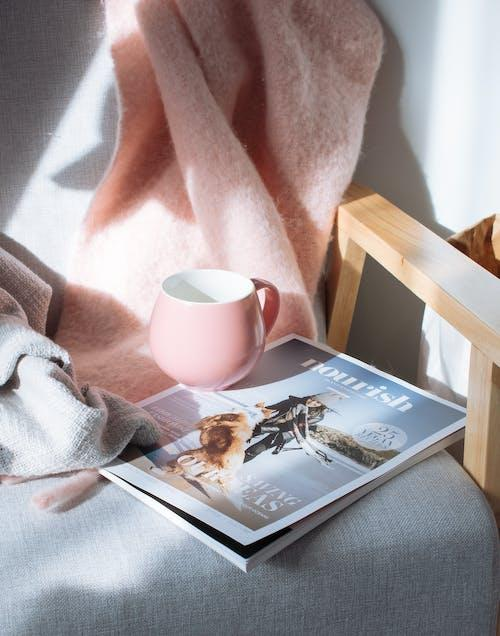Mug: (126, 223, 304, 404)
